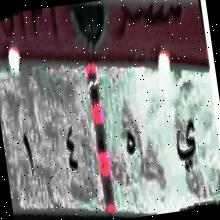1: (17, 119, 40, 189)
4: (59, 118, 86, 188)
haa: (120, 124, 143, 170)
yaa: (167, 103, 205, 191)
